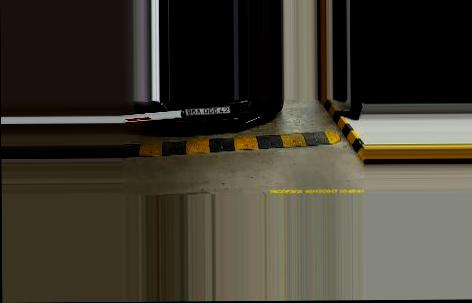License_Plate: (184, 104, 231, 118)
